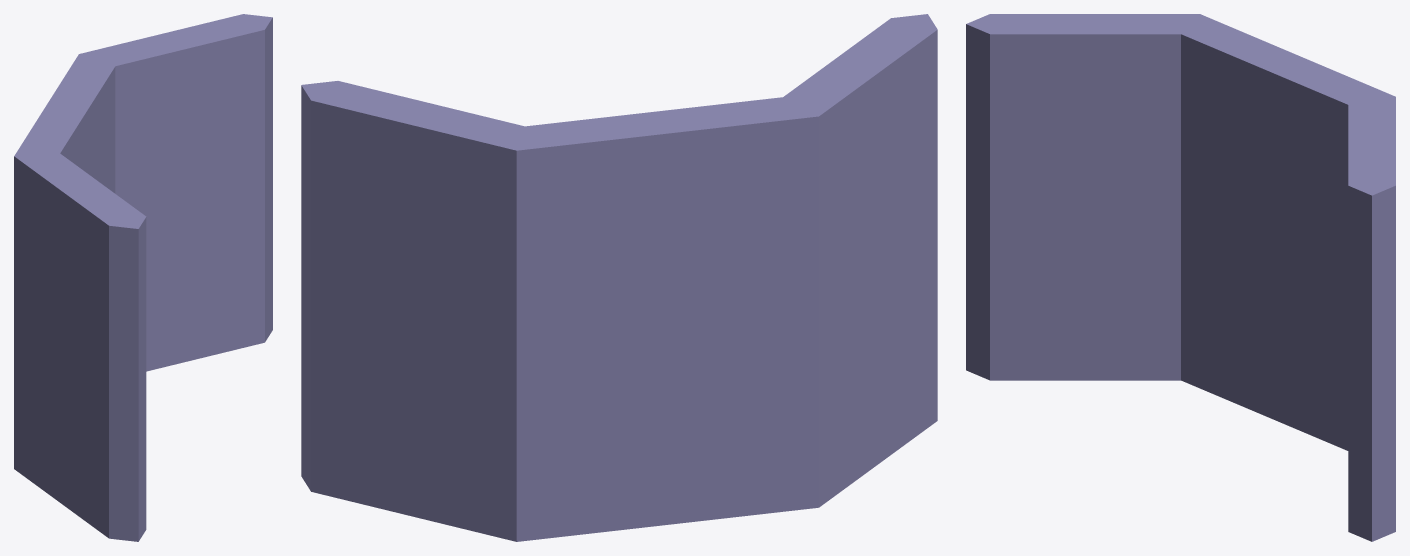
Rendered from Wall_Corner.fbx.
3 views of the same model, side by side, from view 1: azimuth 30°, elevation 25°; view 2: azimuth 150°, elevation 25°; view 3: azimuth 270°, elevation 25° (orthographic). The views are drawn at different scales.
Parts seen in each view (by area): view 1: wall_cornerEdge; view 2: wall_cornerEdge; view 3: wall_cornerEdge.
Part boxes in pixels (box(x1,y1,x2,y2)): wall_cornerEdge: box(14, 14, 272, 541); wall_cornerEdge: box(301, 14, 937, 541); wall_cornerEdge: box(966, 14, 1395, 541).
Bounding box in the file's own units: 11.25 × 10 × 11.25.
